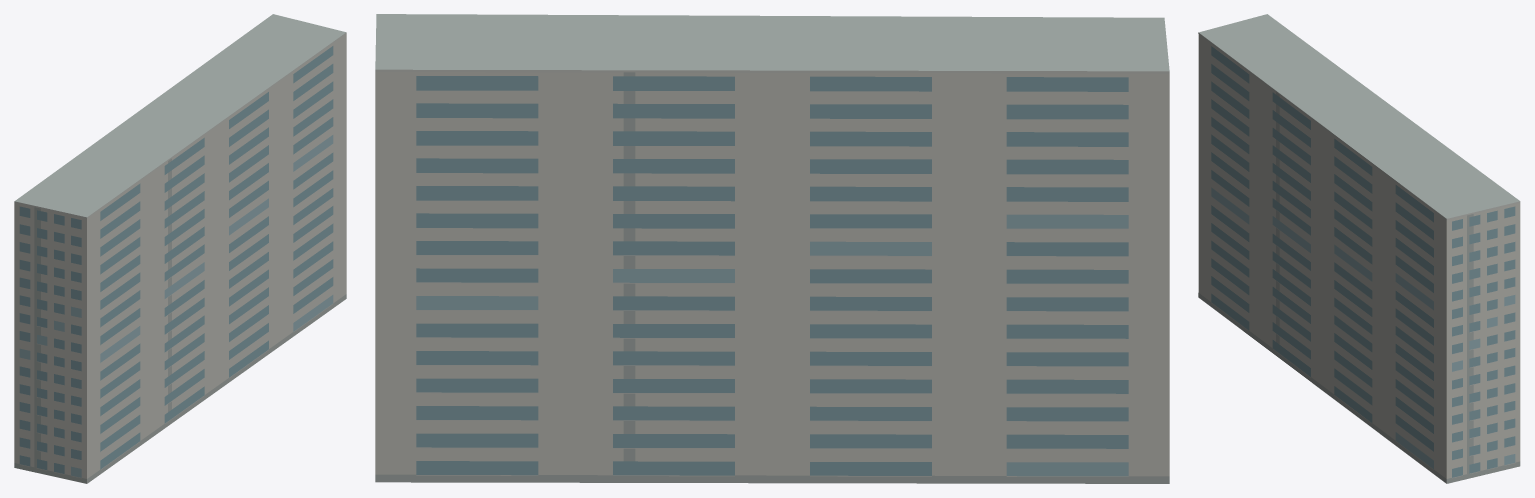
The model's file is residential-1778eaa8-3841-4ea0-9ff4-820f1d420230.glb.
3 views of the same model, side by side, from view 1: azimuth 30°, elevation 25°; view 2: azimuth 150°, elevation 25°; view 3: azimuth 270°, elevation 25° (orthographic). The views are drawn at different scales.
Visible parts, largest first — view 1: residential-1778eaa8-3841-4ea0-9ff4-820f1d420230.tmp; view 2: residential-1778eaa8-3841-4ea0-9ff4-820f1d420230.tmp; view 3: residential-1778eaa8-3841-4ea0-9ff4-820f1d420230.tmp.
Boxes of the visible parts, x1,y1,x2,y2 form: residential-1778eaa8-3841-4ea0-9ff4-820f1d420230.tmp: [14, 14, 346, 483]; residential-1778eaa8-3841-4ea0-9ff4-820f1d420230.tmp: [375, 14, 1169, 483]; residential-1778eaa8-3841-4ea0-9ff4-820f1d420230.tmp: [1198, 14, 1520, 483].
Size of the model in its own units: 75.85 by 45.75 by 50.37.
